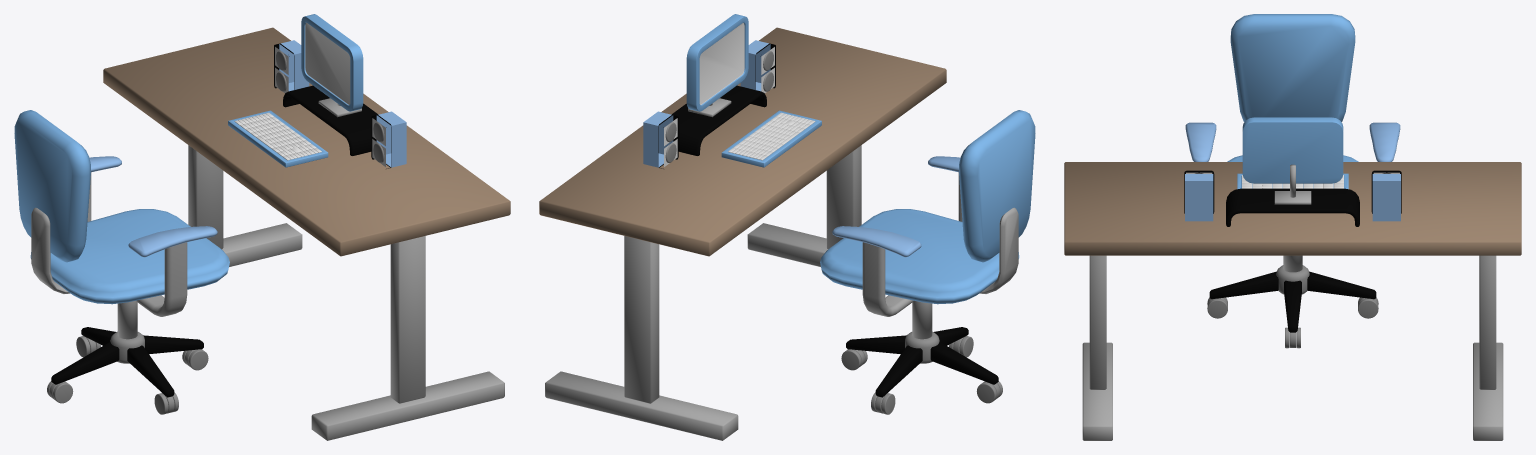
File: Desk.glb
3 renders of one model, left to right at view 1: azimuth 30°, elevation 25°; view 2: azimuth 150°, elevation 25°; view 3: azimuth 270°, elevation 25°, orthographic. The views are drawn at different scales.
Visible parts, largest first — view 1: Plane, Plane.001, Cube.001, Plane.005, Cube, Plane.008, Cube.002, Plane.011, Plane.006, Plane.002, Plane.010, Plane.003 (+5 smaller); view 2: Plane, Plane.001, Cube.001, Plane.005, Cube, Plane.008, Cube.002, Plane.011, Plane.006, Plane.002, Plane.010, Plane.003 (+5 smaller); view 3: Plane, Plane.005, Plane.008, Cube.001, Cube, Plane.011, Plane.006, Cube.002, Plane.003, Cylinder.001, Plane.010, Cylinder (+1 smaller).
Boxes of the visible parts, x1,y1,x2,y2 form: Plane: [103, 27, 510, 256]; Plane.001: [30, 209, 229, 304]; Cube.001: [188, 145, 425, 403]; Plane.005: [14, 110, 90, 262]; Cube: [222, 223, 504, 440]; Plane.008: [301, 14, 363, 111]; Cube.002: [51, 327, 203, 397]; Plane.011: [274, 40, 406, 168]; Plane.006: [283, 85, 378, 155]; Plane.002: [87, 172, 187, 316]; Plane.010: [234, 112, 321, 160]; Plane.003: [89, 156, 217, 257]; Plane: [539, 27, 946, 256]; Plane.001: [820, 209, 1019, 304]; Cube.001: [624, 145, 861, 403]; Plane.005: [959, 110, 1035, 262]; Cube: [545, 223, 827, 440]; Plane.008: [686, 14, 748, 111]; Cube.002: [846, 327, 998, 397]; Plane.011: [643, 40, 775, 168]; Plane.006: [671, 85, 766, 155]; Plane.002: [862, 172, 962, 316]; Plane.010: [728, 112, 815, 160]; Plane.003: [832, 156, 960, 257]; Plane: [1064, 162, 1521, 255]; Plane.005: [1230, 14, 1355, 121]; Plane.008: [1242, 117, 1343, 183]; Cube.001: [1089, 255, 1496, 389]; Cube: [1082, 342, 1503, 440]; Plane.011: [1184, 170, 1401, 221]; Plane.006: [1226, 188, 1359, 226]; Cube.002: [1209, 271, 1376, 332]; Plane.003: [1185, 122, 1400, 161]; Cylinder.001: [1207, 297, 1378, 348]; Plane.010: [1242, 175, 1343, 188]; Cylinder: [1276, 265, 1309, 294].
Bounding box in the file's own units: 7.15 × 5.78 × 8.2.
